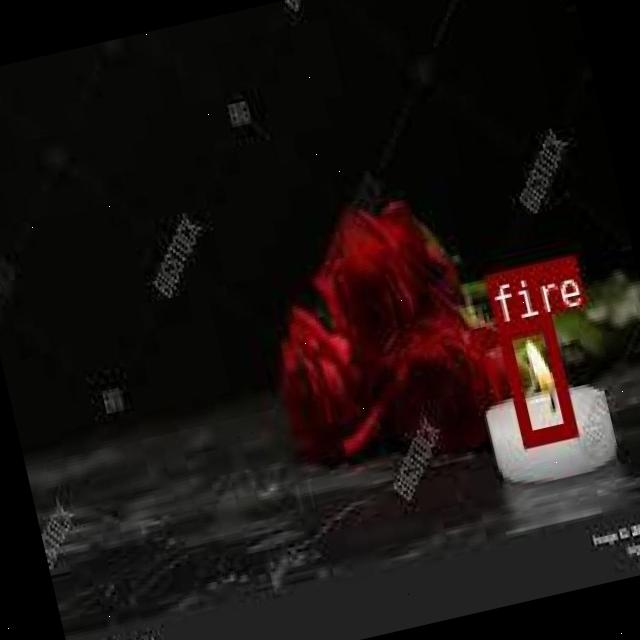fire: (492, 313, 574, 444)
